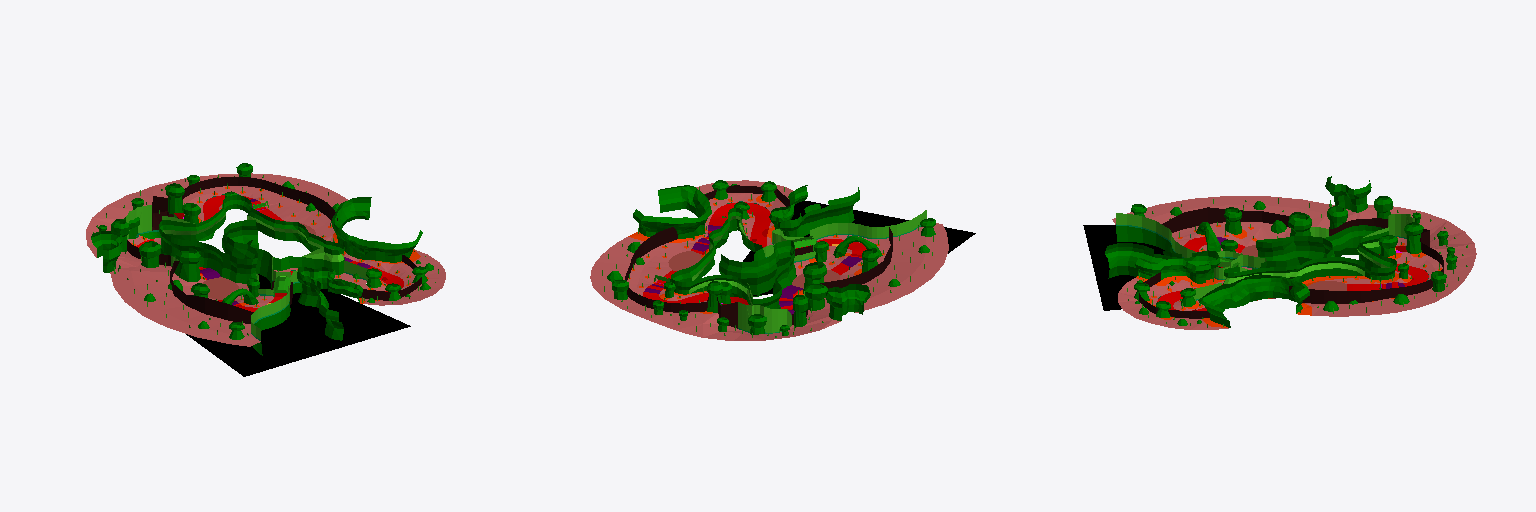
File: course.obj
3 renders of one model, left to right at view 1: azimuth 30°, elevation 25°; view 2: azimuth 150°, elevation 25°; view 3: azimuth 270°, elevation 25°, orthographic.
Visible parts, largest first — view 1: wall_0c_F802c, offroad_04_F00a4, fall_10_F0030, fall_10_F00f0, wall_0d_F000d, road_00_F00a0, wall_0c_F806c, offroad_05_F0005; view 2: wall_0c_F802c, offroad_04_F00a4, wall_0d_F000d, fall_10_F00f0, road_00_F00a0, fall_10_F0030, offroad_05_F0005, offroad_04_F01a4, road_00_F20a0, wall_0c_F806c; view 3: wall_0c_F802c, offroad_04_F00a4, fall_10_F00f0, wall_0d_F000d, fall_10_F0030, offroad_04_F01a4, road_00_F00a0.
Part boxes in pixels (left/top/right/bottom): wall_0c_F802c: left=91, top=163, right=433, bottom=355; offroad_04_F00a4: left=86, top=173, right=445, bottom=346; fall_10_F0030: left=186, top=274, right=410, bottom=376; fall_10_F00f0: left=127, top=177, right=421, bottom=323; wall_0d_F000d: left=126, top=205, right=368, bottom=339; road_00_F00a0: left=136, top=195, right=403, bottom=311; wall_0c_F806c: left=93, top=175, right=438, bottom=335; offroad_05_F0005: left=202, top=221, right=315, bottom=299; wall_0c_F802c: left=607, top=180, right=935, bottom=335; offroad_04_F00a4: left=590, top=180, right=948, bottom=340; wall_0d_F000d: left=689, top=208, right=926, bottom=332; fall_10_F00f0: left=625, top=185, right=892, bottom=328; road_00_F00a0: left=643, top=202, right=866, bottom=309; fall_10_F0030: left=743, top=201, right=975, bottom=295; offroad_05_F0005: left=668, top=251, right=840, bottom=288; offroad_04_F01a4: left=628, top=195, right=884, bottom=313; road_00_F20a0: left=644, top=225, right=861, bottom=314; wall_0c_F806c: left=602, top=187, right=933, bottom=337; wall_0c_F802c: left=1105, top=176, right=1457, bottom=327; offroad_04_F00a4: left=1112, top=196, right=1476, bottom=329; fall_10_F00f0: left=1139, top=207, right=1443, bottom=318; wall_0d_F000d: left=1116, top=213, right=1414, bottom=300; fall_10_F0030: left=1083, top=225, right=1164, bottom=310; offroad_04_F01a4: left=1136, top=225, right=1441, bottom=327; road_00_F00a0: left=1157, top=237, right=1428, bottom=310.
Bounding box in the file's own units: 85884 × 14605 × 105608.